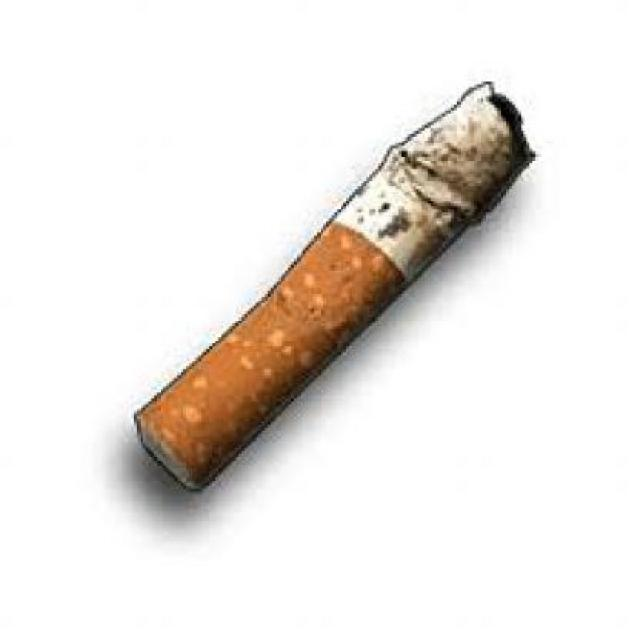cigarette: (90, 75, 556, 503)
